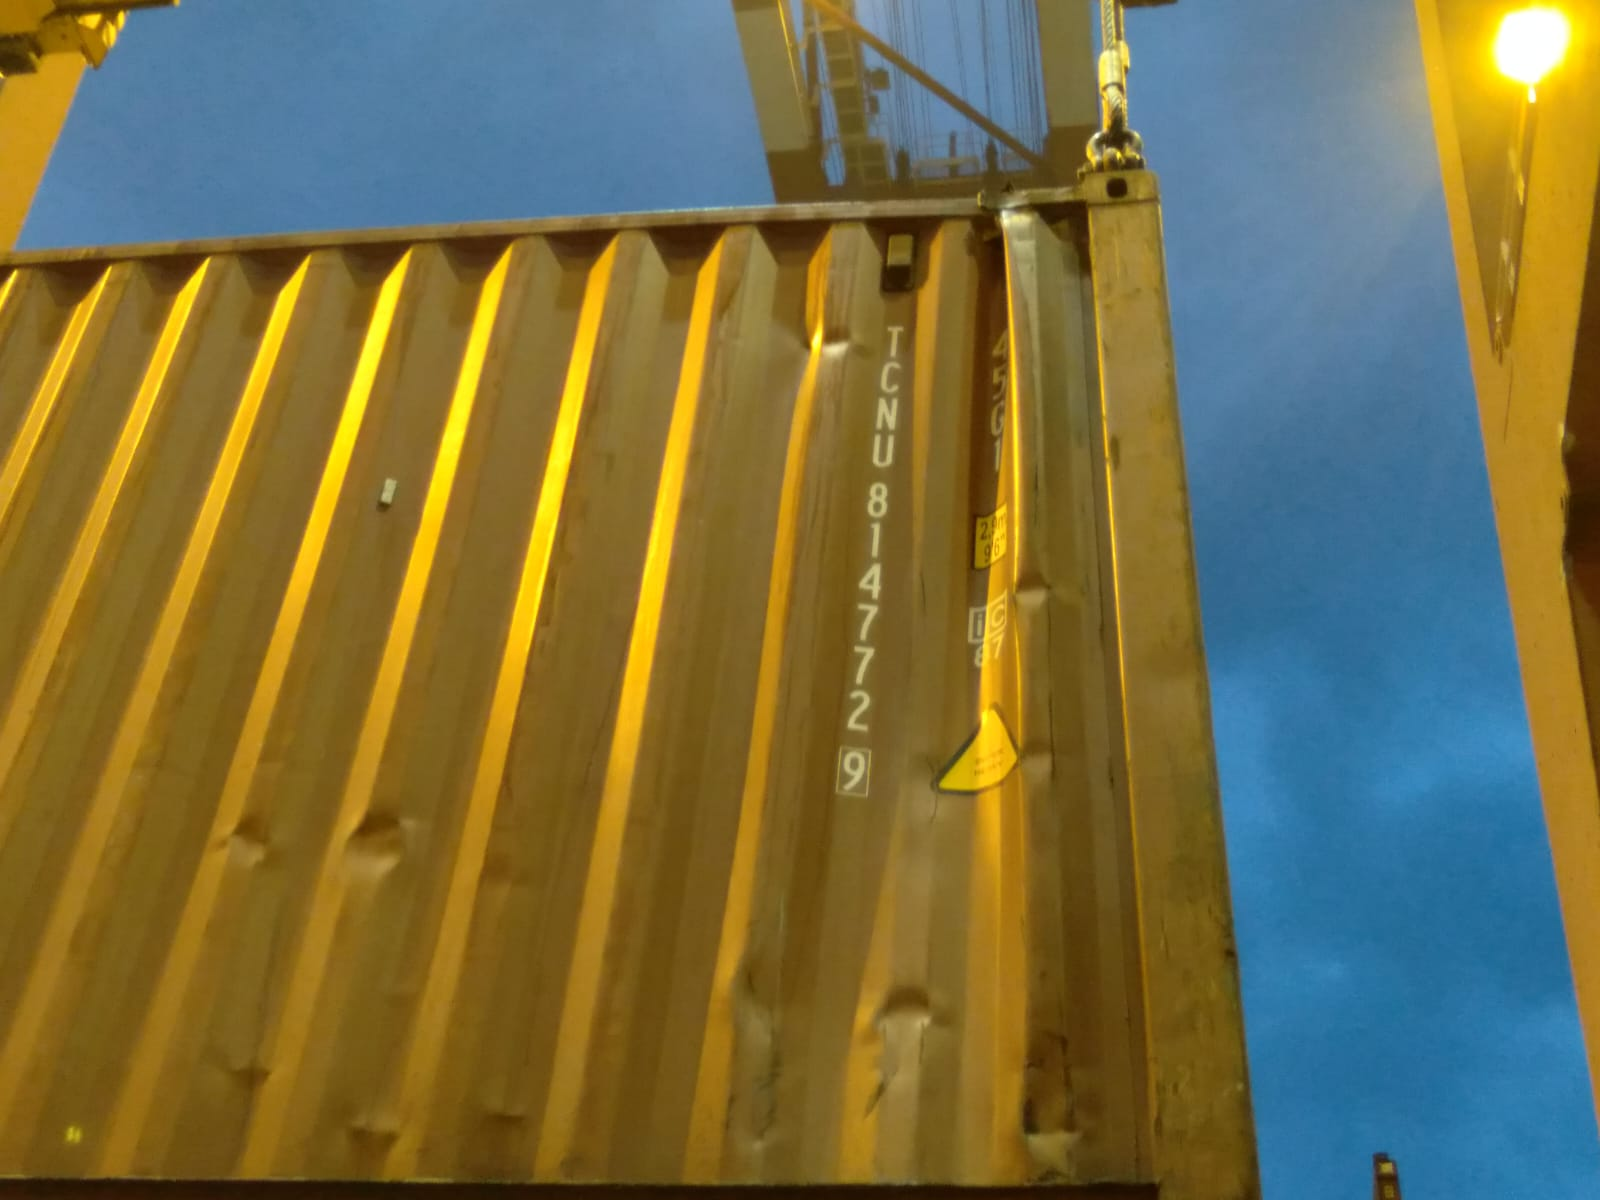bulged: (898, 189, 1090, 787)
dented: (687, 952, 1004, 1089), (199, 794, 457, 929), (757, 241, 879, 408), (326, 1087, 551, 1174), (1007, 1021, 1092, 1185), (218, 1047, 300, 1108)
